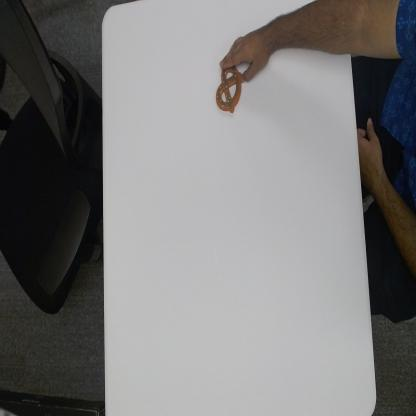Arm: (273, 0, 416, 64)
Hand: (223, 22, 273, 86)
Pretzel: (216, 57, 244, 122)
